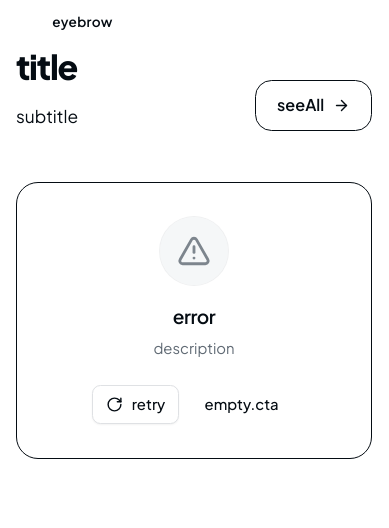
Test: « Demandes récentes » › offers a retry, and the way to post, when the read fails
The image size is (389, 528).
Step 1. Click the button "retry" → (136, 404), box left=92, top=385, right=179, bottom=424
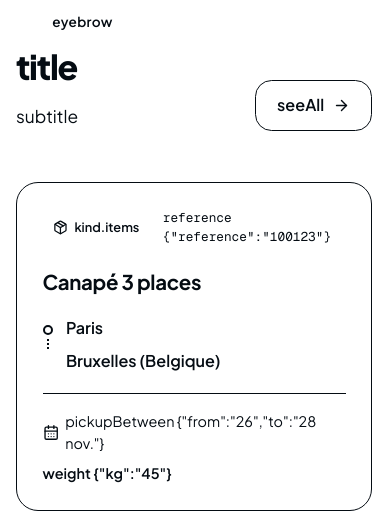
Check: the link "Canapé 3 places" is shown, box left=42, top=269, right=201, bottom=295
